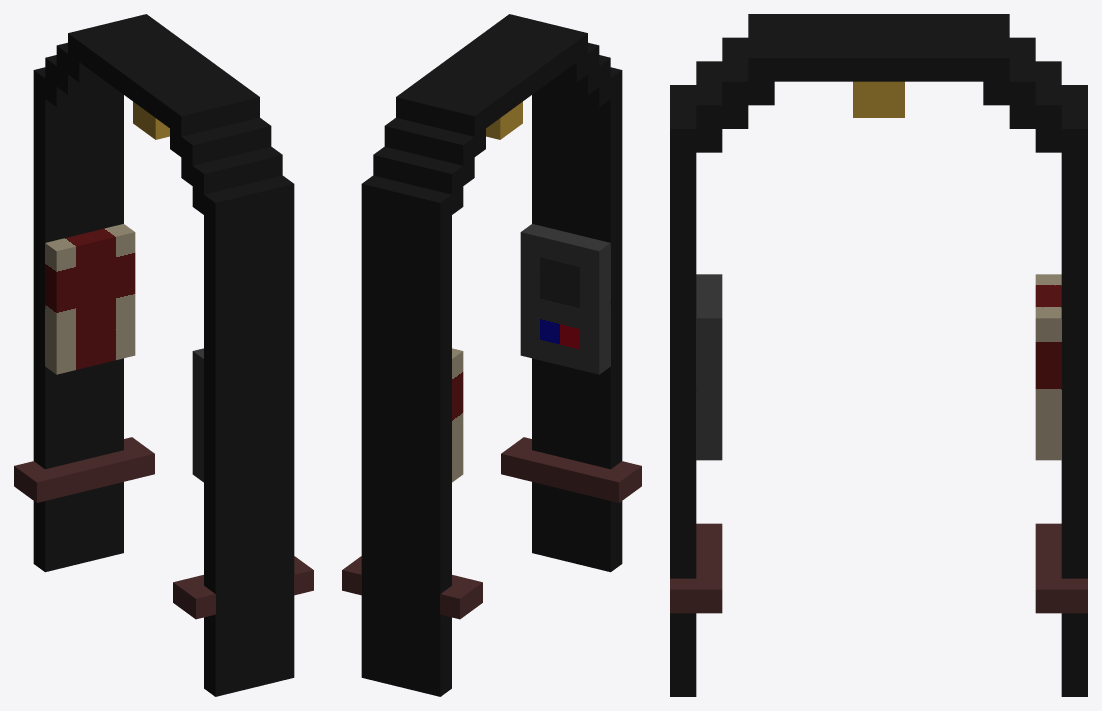
The model's file is ArchRed.fbx.
3 renders of one model, left to right at view 1: azimuth 30°, elevation 25°; view 2: azimuth 150°, elevation 25°; view 3: azimuth 270°, elevation 25°, orthographic. The views are drawn at different scales.
Visible parts, largest first — view 1: Matrix; view 2: Matrix; view 3: Matrix.
Part boxes in pixels (<box>): Matrix: <box>14,14,313,696</box>; Matrix: <box>342,14,641,696</box>; Matrix: <box>670,14,1087,696</box>.
Size of the model in its own units: 6 by 27 by 16.
